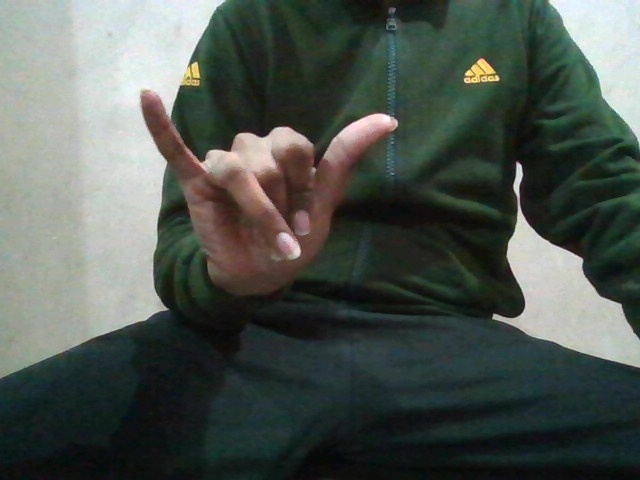Y: (135, 90, 423, 304)
